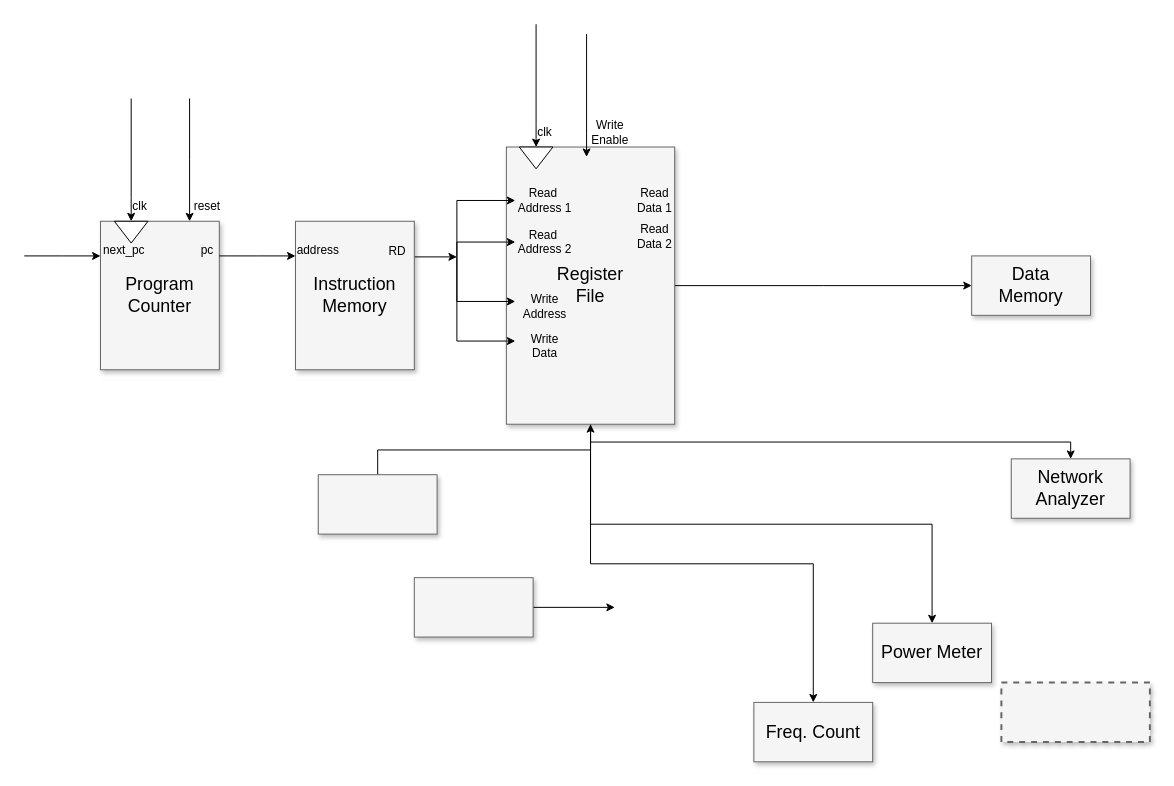
Image size: 1174x786. Some labels were removed from this diagram. Each missing label, with the centre of its shape:
"ARB / Mod Source" goes at [378,505].
"DC Power Supplies" goes at [474,608].
"Software Control" goes at [1076,713].
